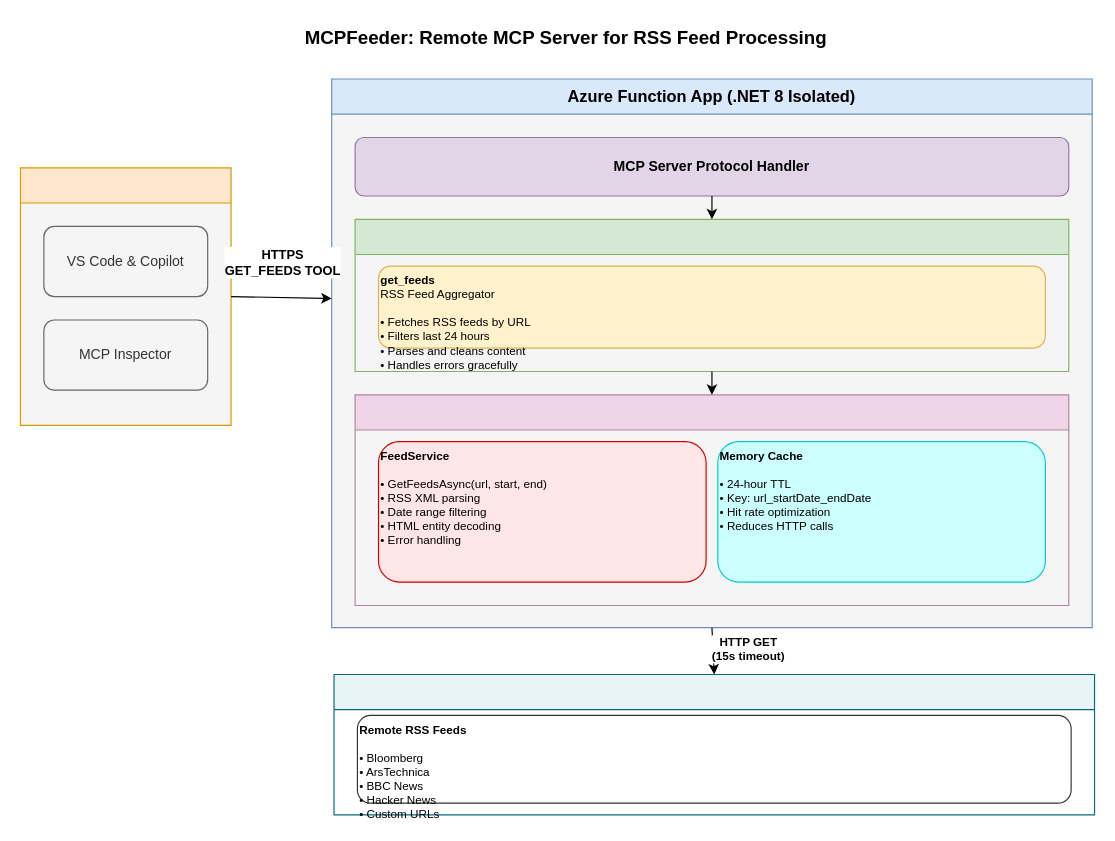
Image size: 1115x841. Some labels were removed from this diagram. Here are the shapes that lost their labels. From the top down, the box of each, then its label:
(19, 167, 231, 425): MCP Clients
(354, 218, 1069, 371): MCP Tools (get_feeds)
(354, 394, 1069, 605): Business Services
(333, 673, 1095, 815): External Data Sources
